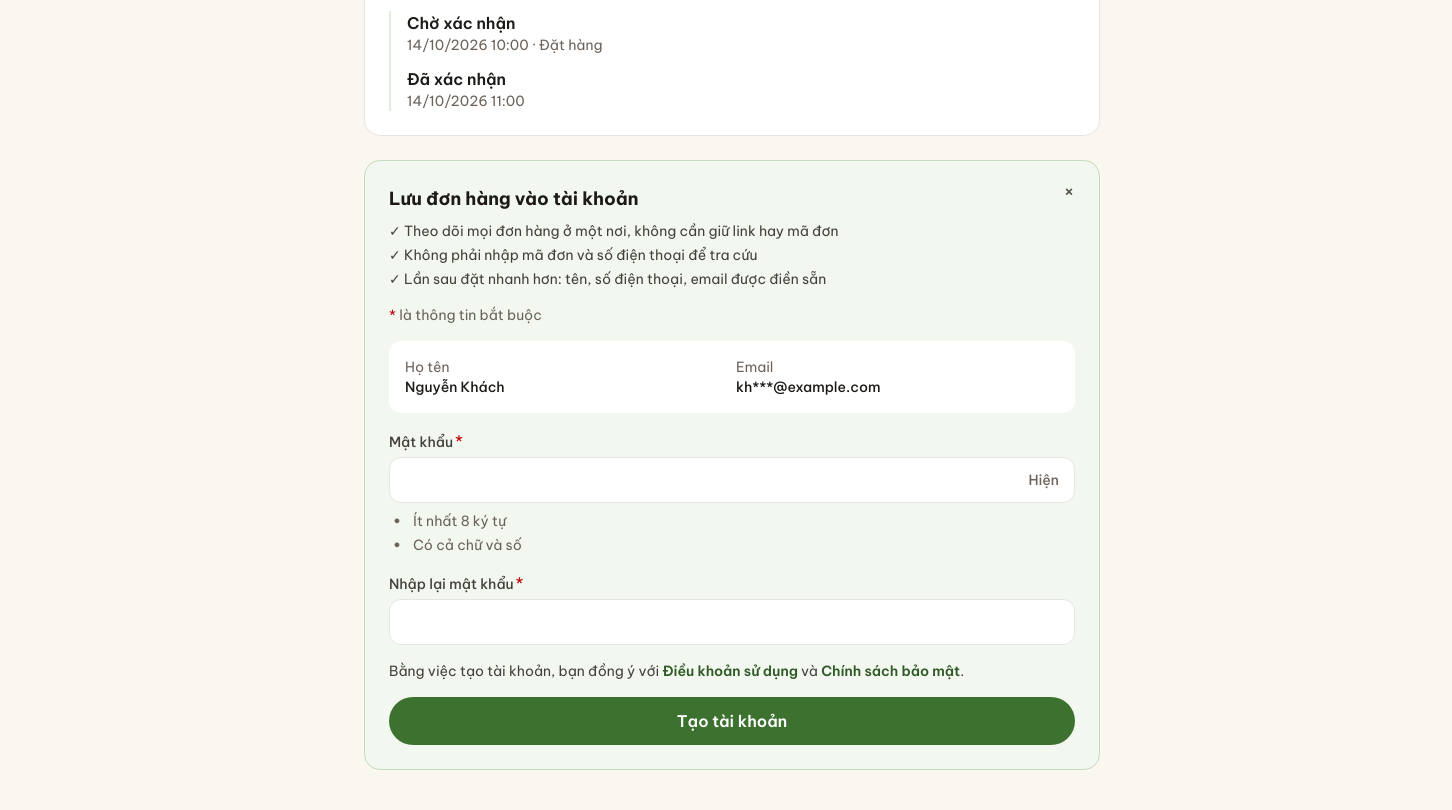
it: TrackOrderPage › creates an account from the order and goes to the saved order
The width and height of the screenshot is (1452, 810).
(page scrolled)
Expected: the heading "Lưu đơn hàng vào tài khoản" is shown, [389,186,638,210]
Expected: the text "kh***@example.com" is shown, [736,378,880,396]
Type "matkhau123" into the password field labelled "Mật khẩu" at (732,480), box [389,456,1075,502]
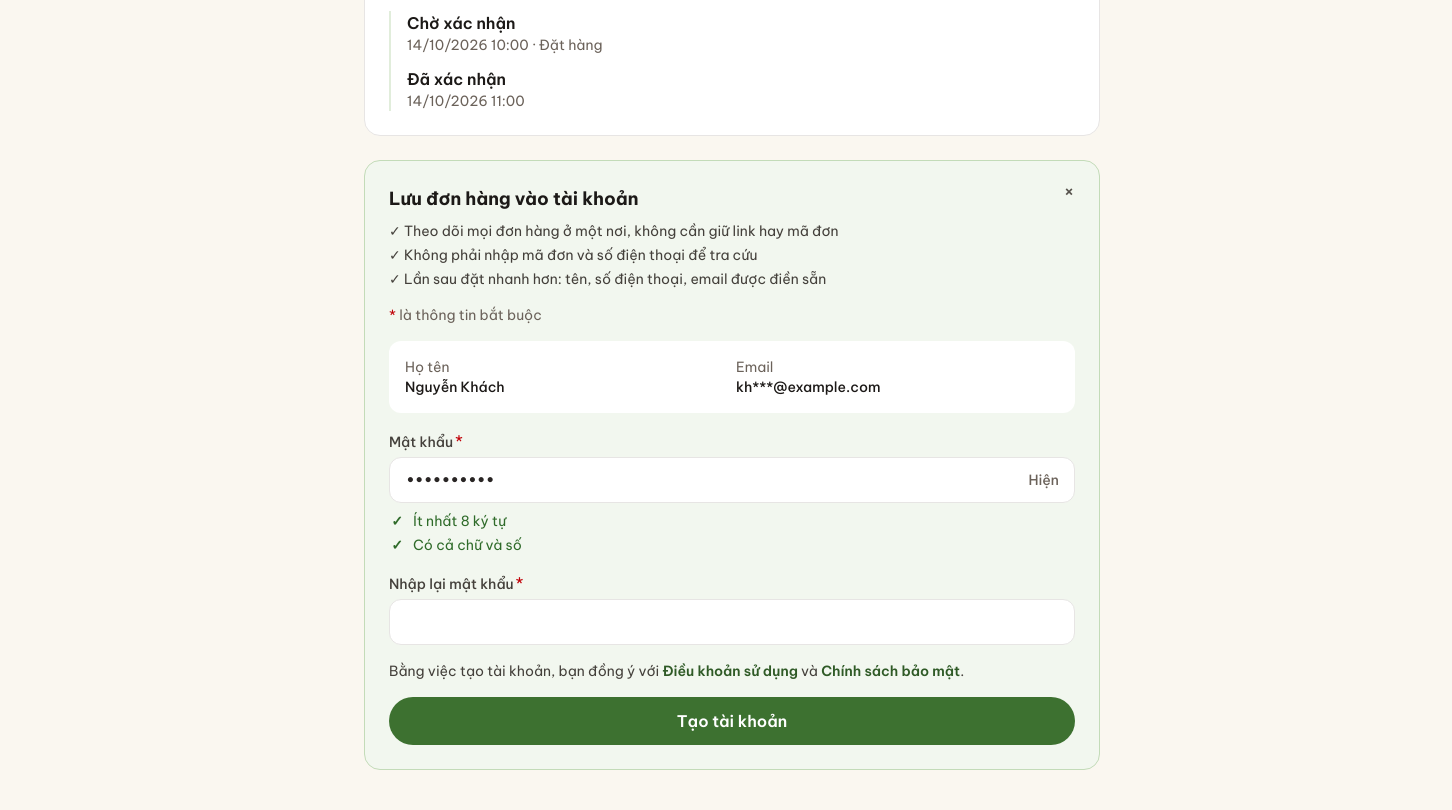
Type "matkhau123" into the password field labelled "Nhập lại mật khẩu" at (732,622), box [389,598,1075,644]
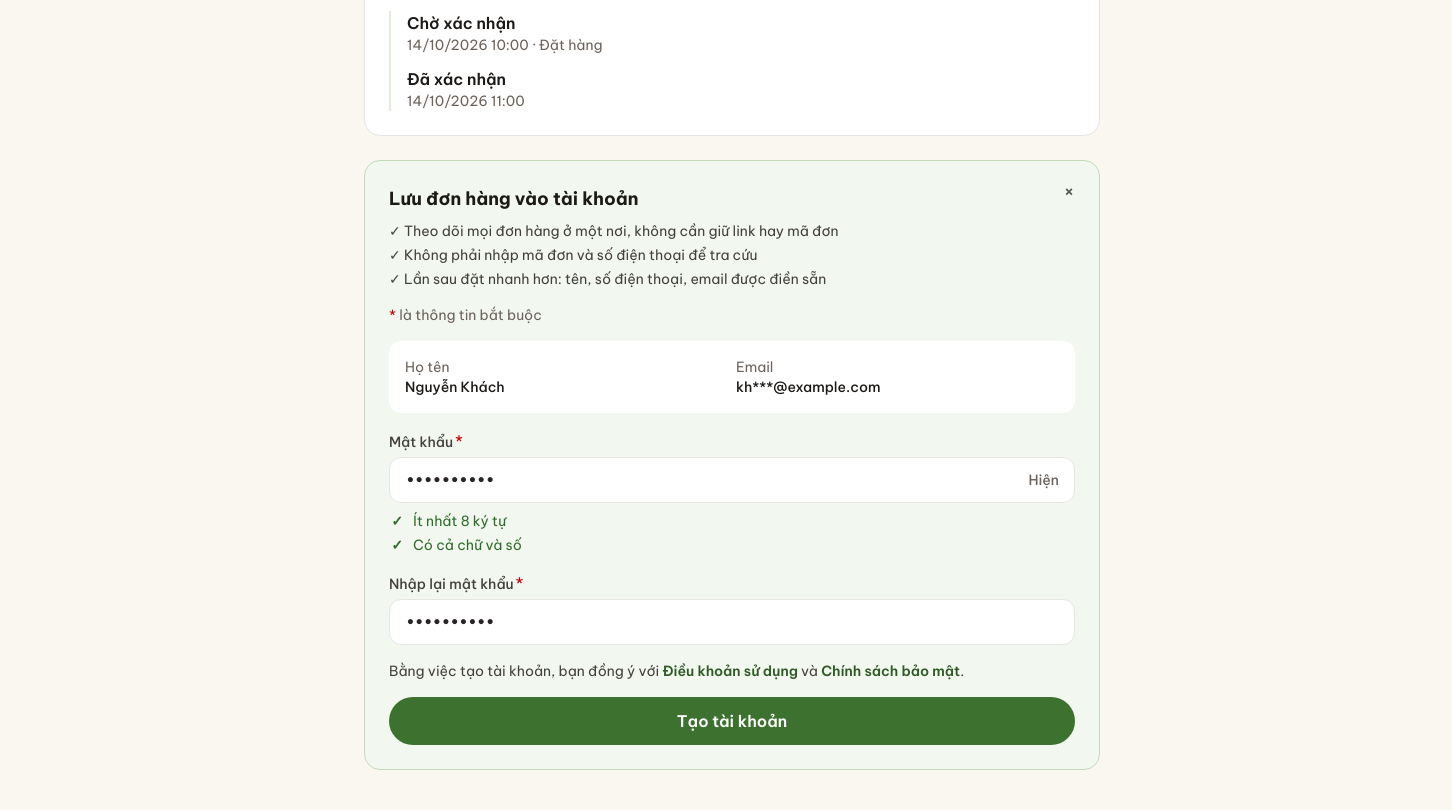
Click the button "Tạo tài khoản" at (732,720), box [389,696,1075,744]
(page scrolled)
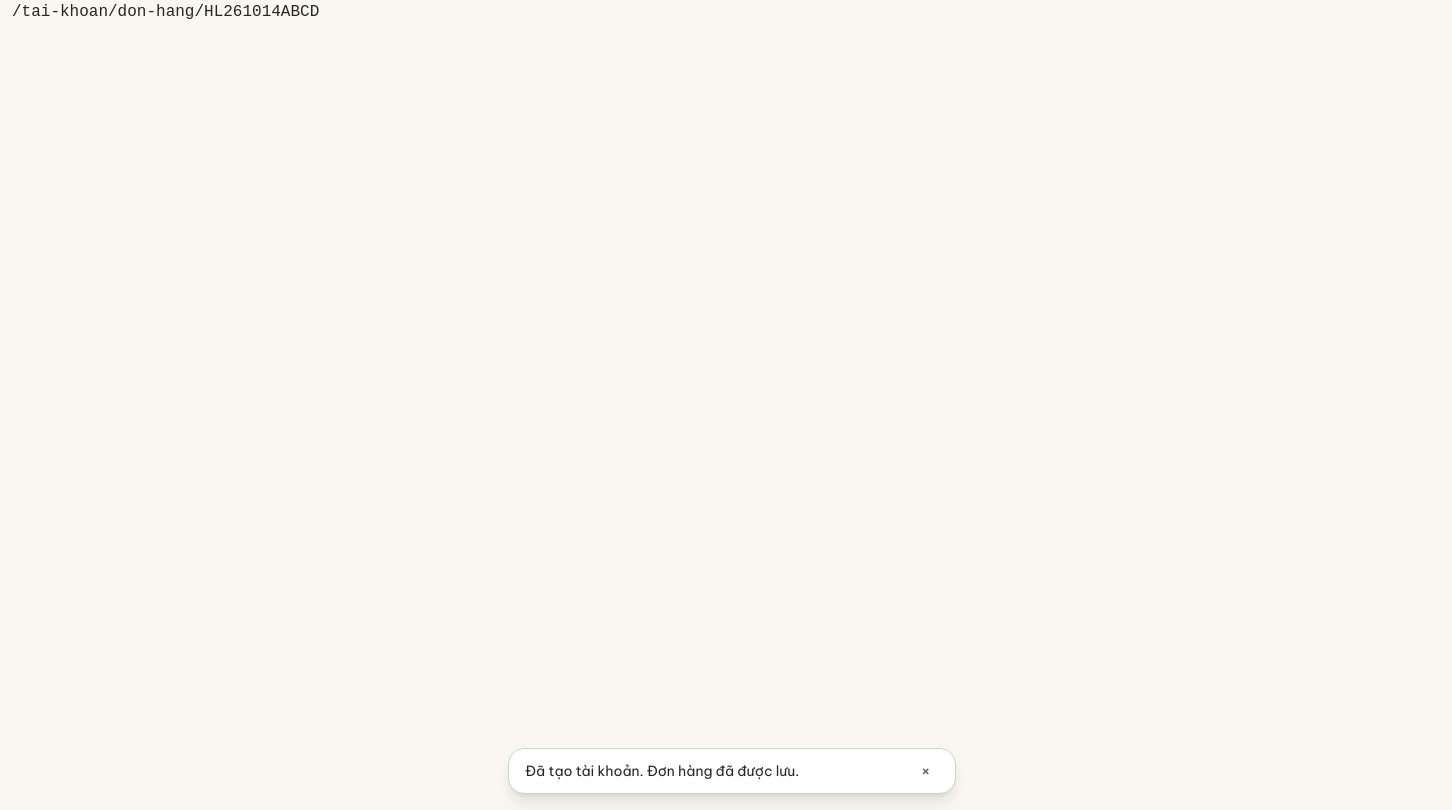
Now the text "/tai-khoan/don-hang/HL261014ABCD" is shown, box [12,3,319,21]
